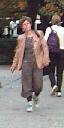person: (12, 21, 46, 114)
